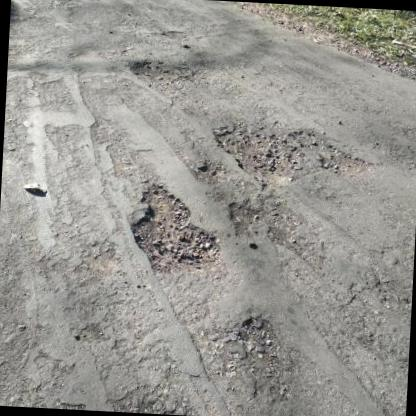pothole: (124, 181, 226, 279), (208, 116, 306, 184), (232, 314, 294, 398), (287, 126, 376, 176), (224, 200, 304, 249), (125, 58, 183, 93), (195, 160, 236, 184)
